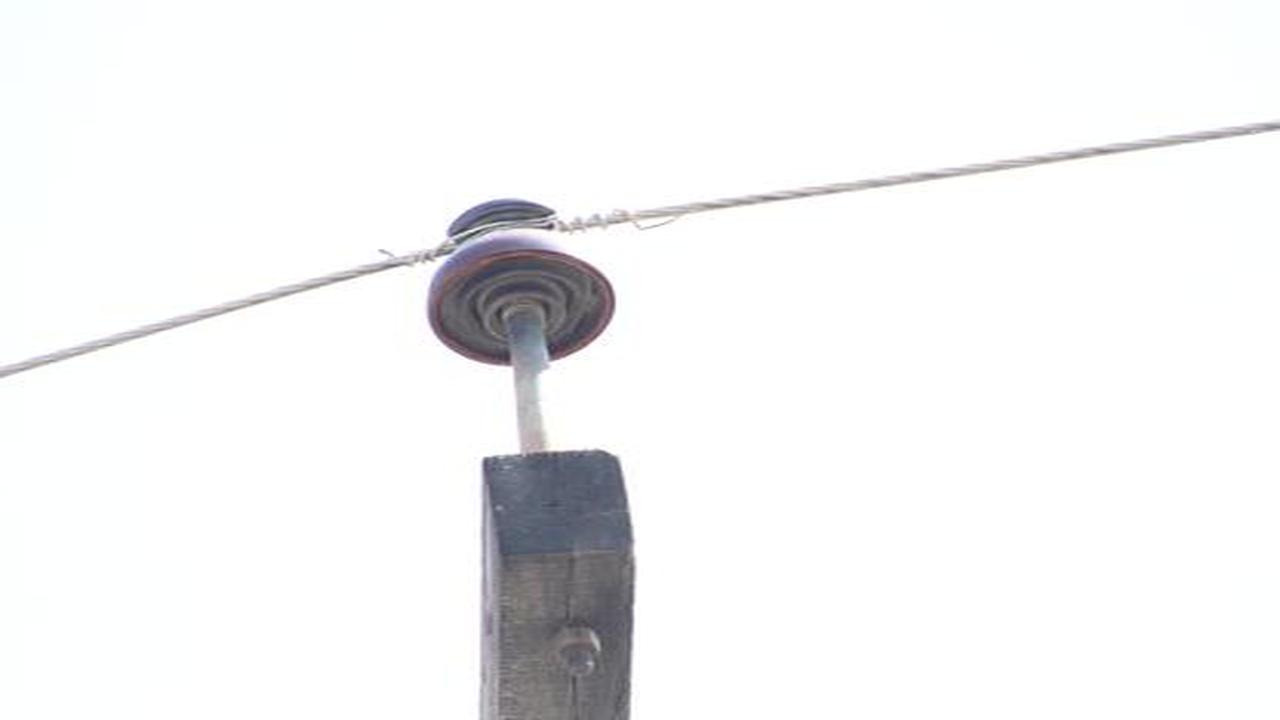insulator_pin: (424, 191, 621, 372)
